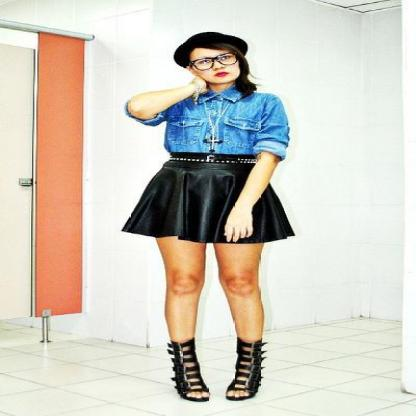shirt: (137, 81, 289, 158)
shoe: (167, 337, 268, 401)
skirt: (122, 160, 294, 248)
